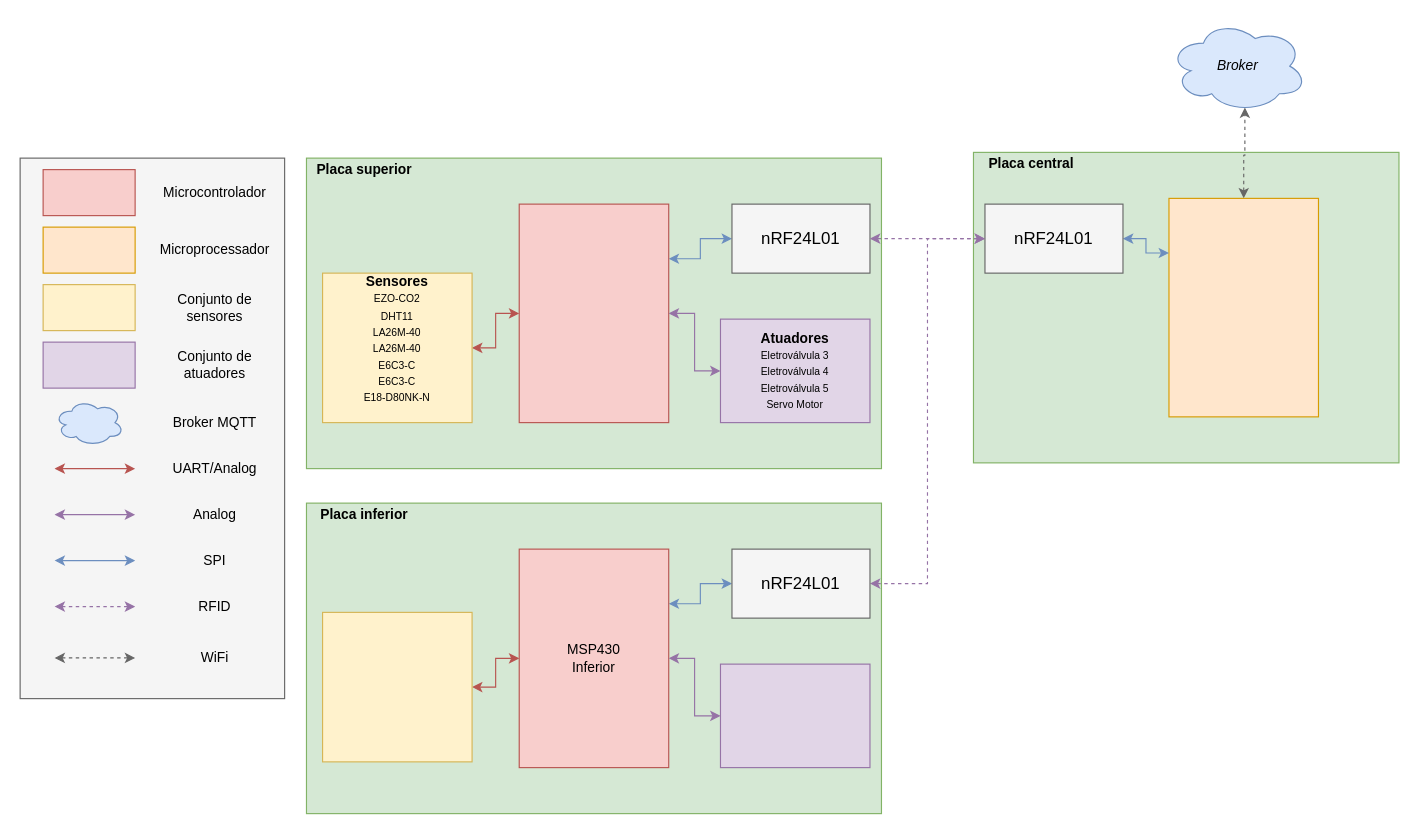
Some shapes in this 1419 by 834 pixel diagram are drawn without their labels. Here are the shapes that lost their labels. From the top down, the box of each, then its label:
(518, 203, 669, 423): MSP430 Superior
(1168, 197, 1318, 417): Raspberry PI 3b+
(321, 611, 472, 762): Sensores PX309 PT100 PT100 LA26M-40 LA26M-40 E19-D80NK-N
(719, 663, 870, 768): Atuadores Eletroválvula 1 Eletroválvula 2
